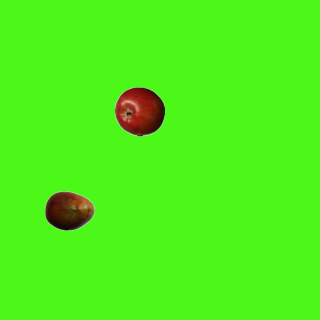Apple Braeburn: (114, 86, 164, 136)
Mango Red: (44, 185, 94, 235)
